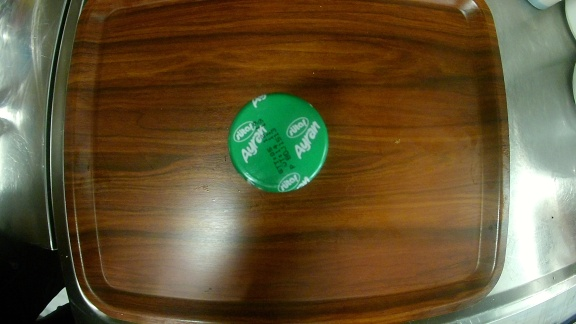ayran: (219, 87, 340, 201)
